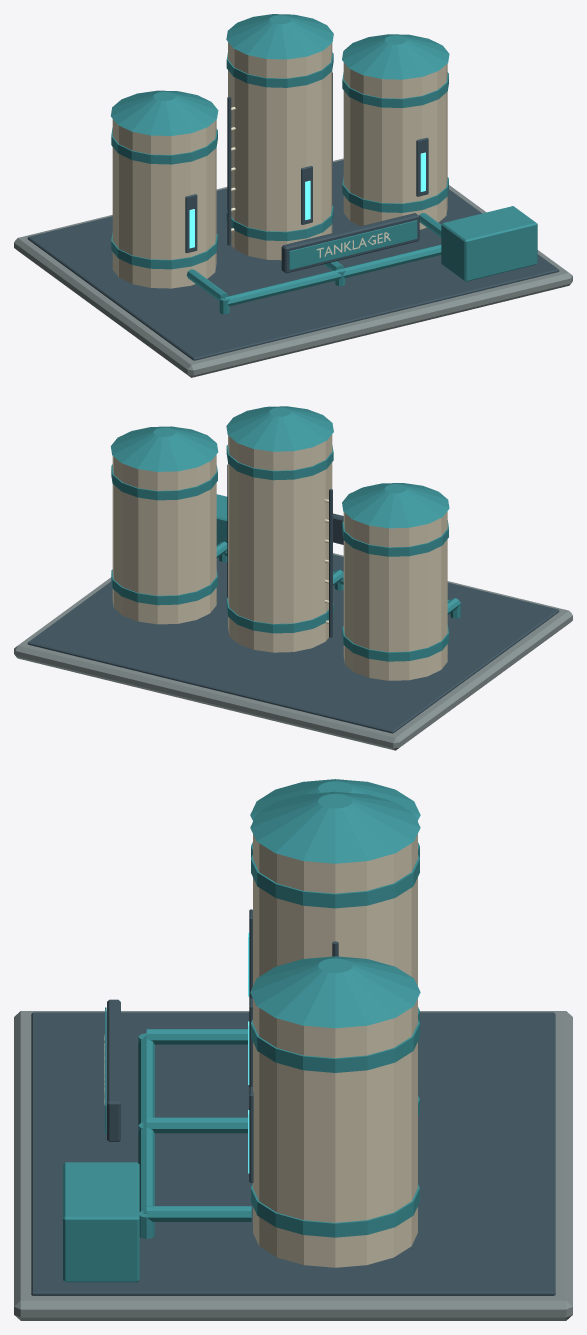
The model's file is silo.glb.
The picture shows the model from 3 angles, top to bottom: view 1: azimuth 30°, elevation 25°; view 2: azimuth 150°, elevation 25°; view 3: azimuth 270°, elevation 25°; orthographic projection. The views are drawn at different scales.
Visible parts, largest first — view 1: silo; view 2: silo; view 3: silo.
Part boxes in pixels (x1,y1,x2,y2): silo: (14,14,572,377); silo: (14,406,572,750); silo: (14,779,572,1320).
Size of the model in its own units: 10 by 5.92 by 8.
